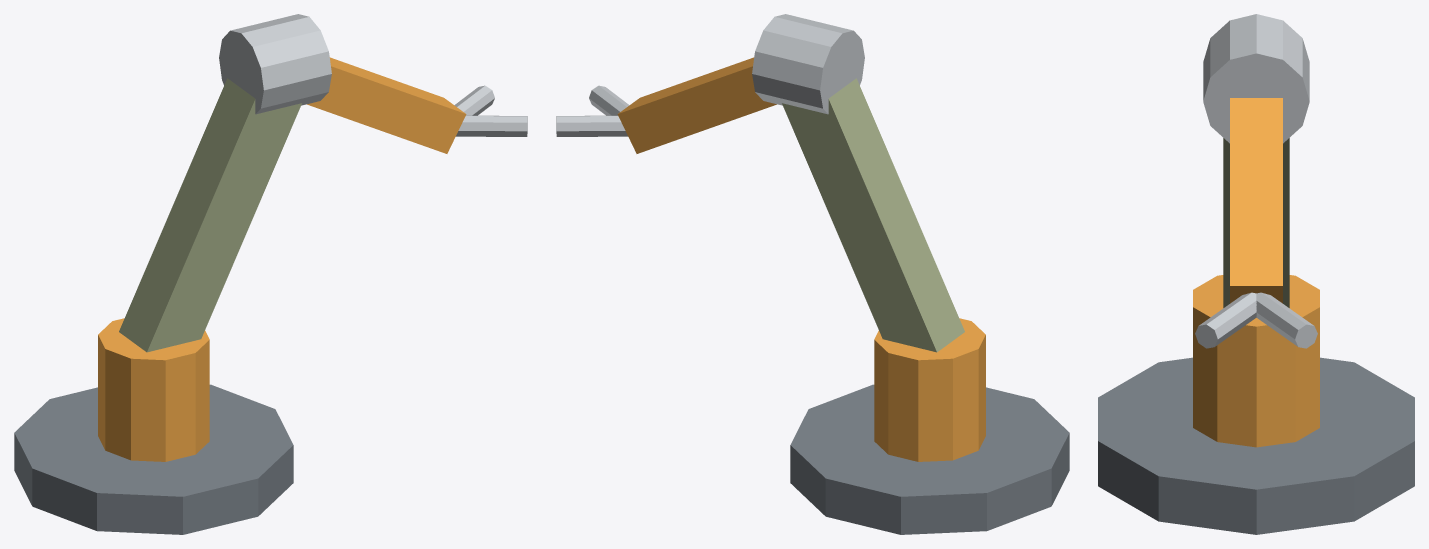
File: mech-hangar-and-battle-frames-robotic-repair-arm-358fdc4c__26962.glb
3 views of the same model, side by side, from view 1: azimuth 30°, elevation 25°; view 2: azimuth 150°, elevation 25°; view 3: azimuth 270°, elevation 25° (orthographic). The views are drawn at different scales.
Visible parts, largest first — view 1: robotic-repair-arm; view 2: robotic-repair-arm; view 3: robotic-repair-arm.
Part boxes in pixels (box(x1,y1,x2,y2)): robotic-repair-arm: box(14, 14, 527, 534); robotic-repair-arm: box(556, 14, 1069, 534); robotic-repair-arm: box(1098, 14, 1414, 534).
Bounding box in the file's own units: 1.97 × 1.66 × 0.951.
